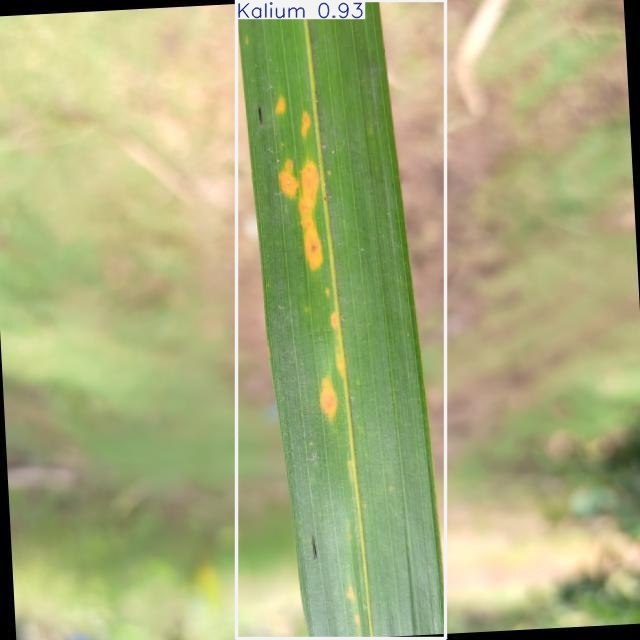Kalium: (237, 1, 446, 639)
